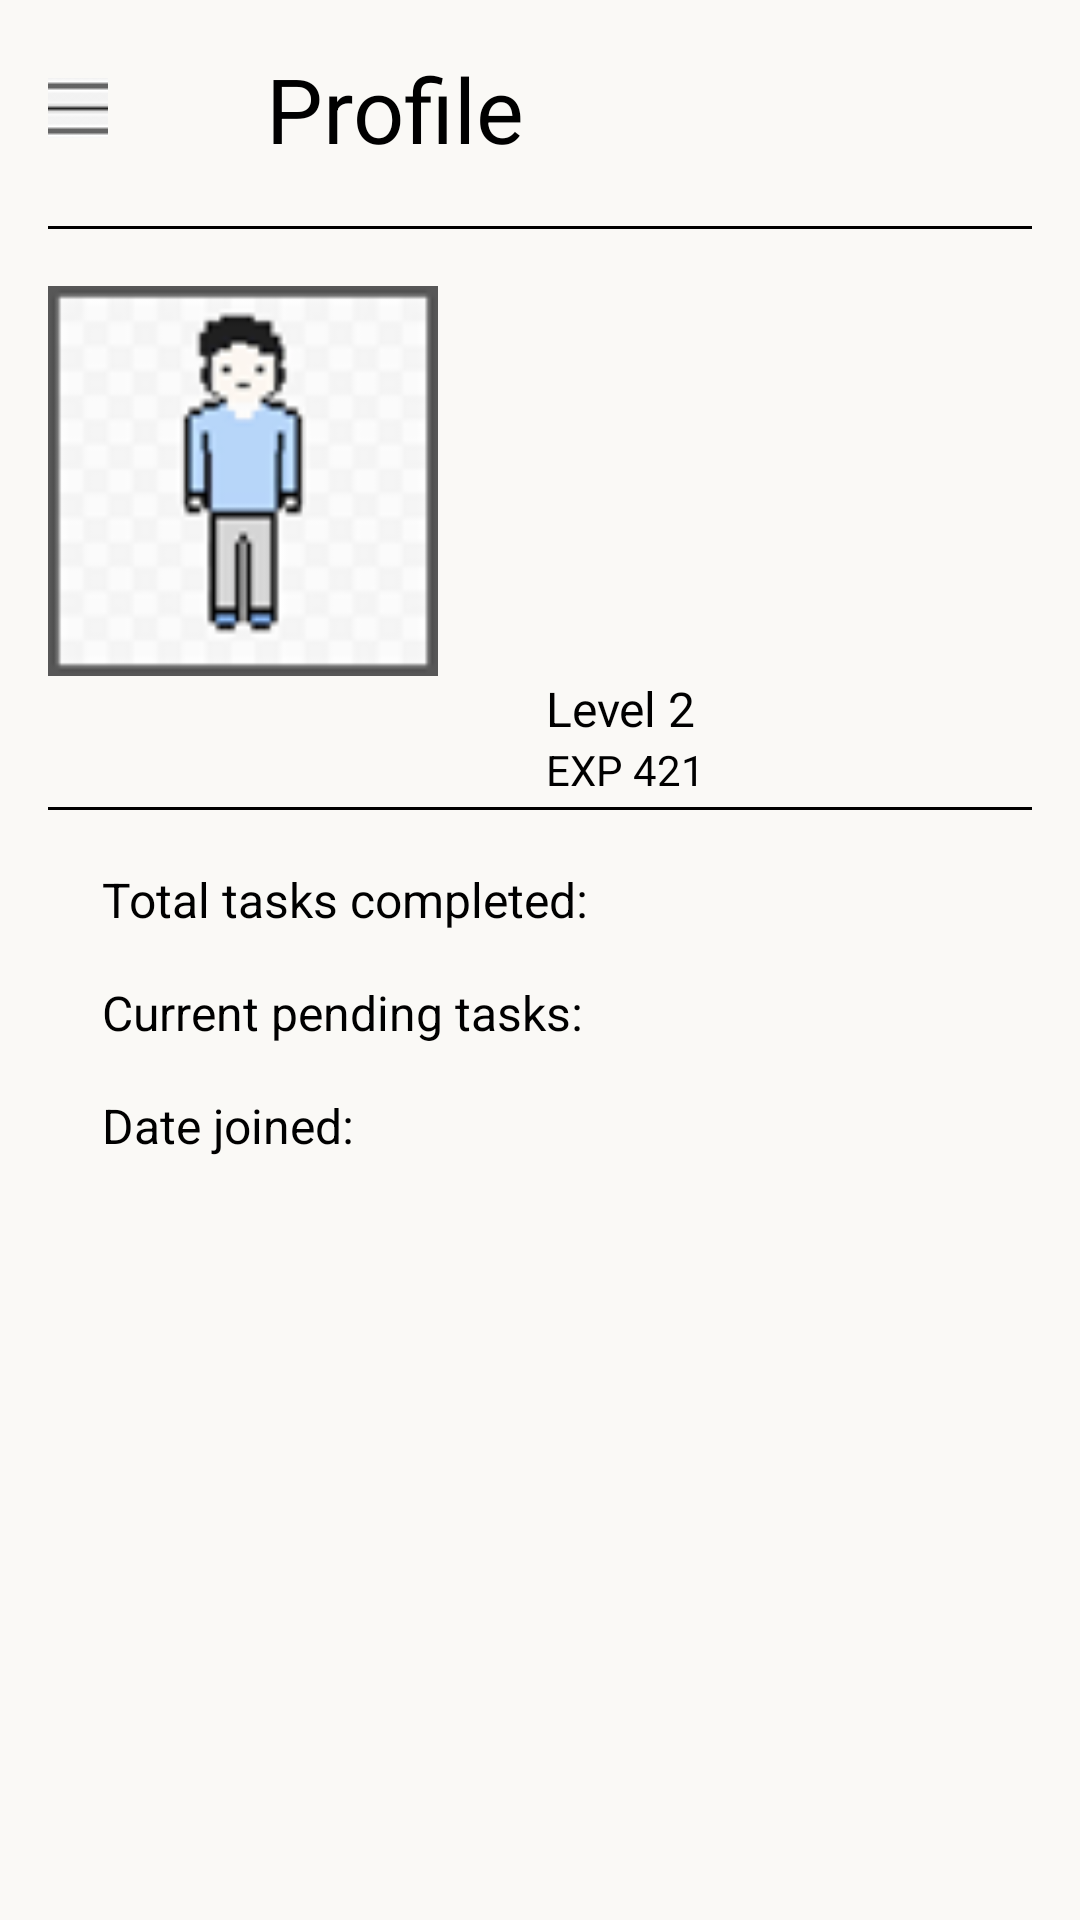

Screen size 1080w x 1920h. Icon name, then its center in pixels as (x=x, y=y):
Menu: (x=78, y=108)
